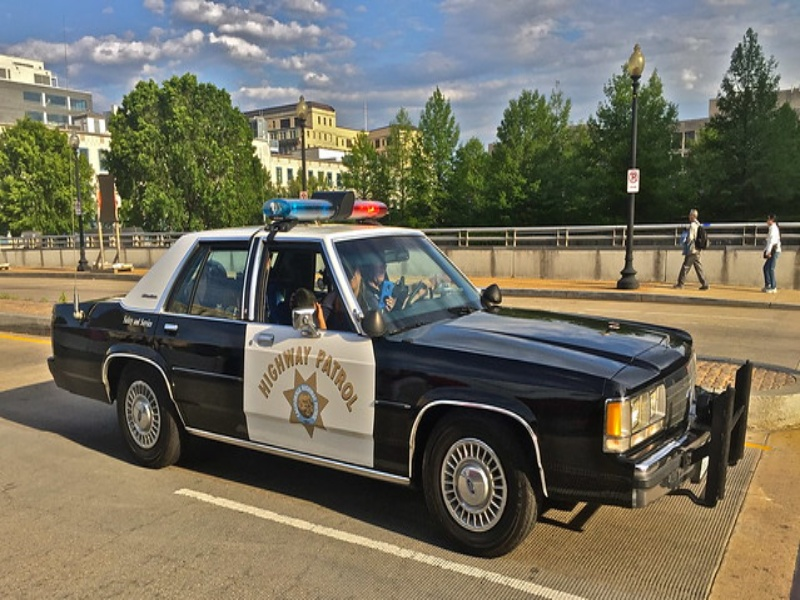policecar: (49, 167, 753, 539)
